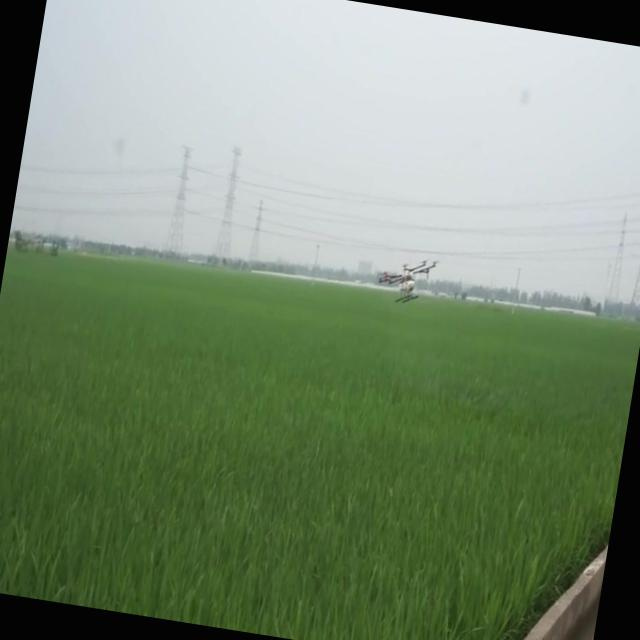drone: (371, 246, 440, 314)
